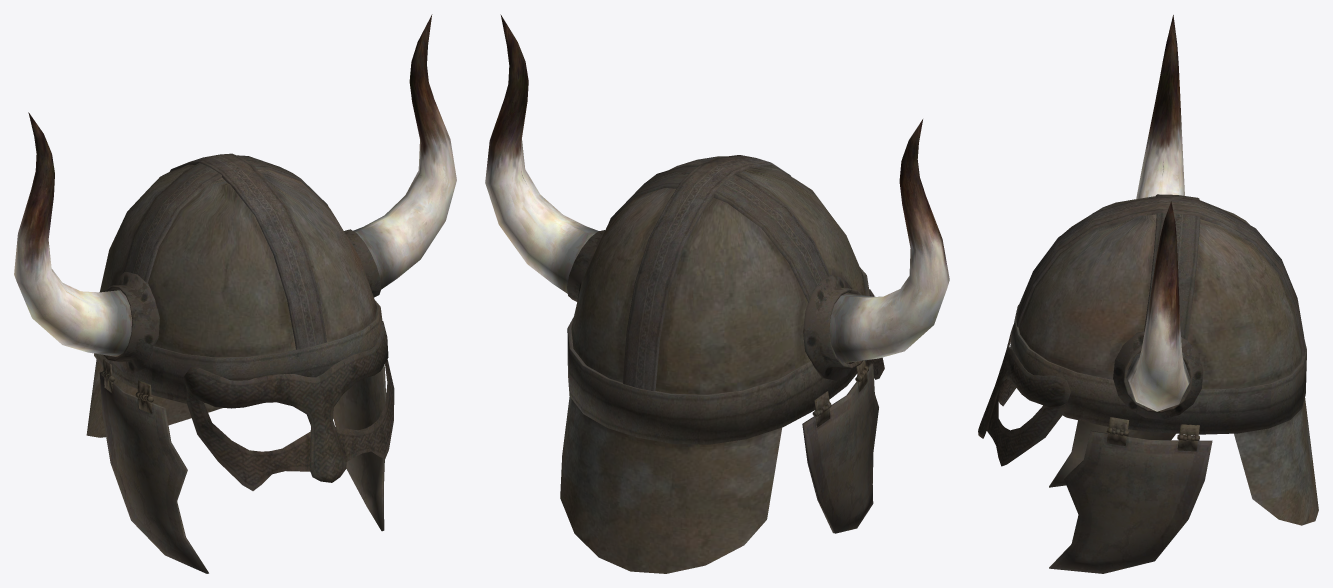
The model's file is viking_helmet_horns.obj.
3 renders of one model, left to right at view 1: azimuth 30°, elevation 25°; view 2: azimuth 150°, elevation 25°; view 3: azimuth 270°, elevation 25°, orthographic. The views are drawn at different scales.
Parts seen in each view (by area): view 1: horn_carriage_left, horn_right; view 2: horn_carriage_left, horn_right; view 3: horn_carriage_left, horn_right.
Part boxes in pixels (left/top/right/bottom): horn_carriage_left: left=86, top=153, right=394, bottom=573; horn_right: left=14, top=14, right=456, bottom=356; horn_carriage_left: left=560, top=155, right=884, bottom=573; horn_right: left=485, top=14, right=949, bottom=362; horn_carriage_left: left=978, top=194, right=1318, bottom=573; horn_right: left=1125, top=15, right=1190, bottom=411.
Size of the model in its own units: 37 by 35.78 by 26.31.
